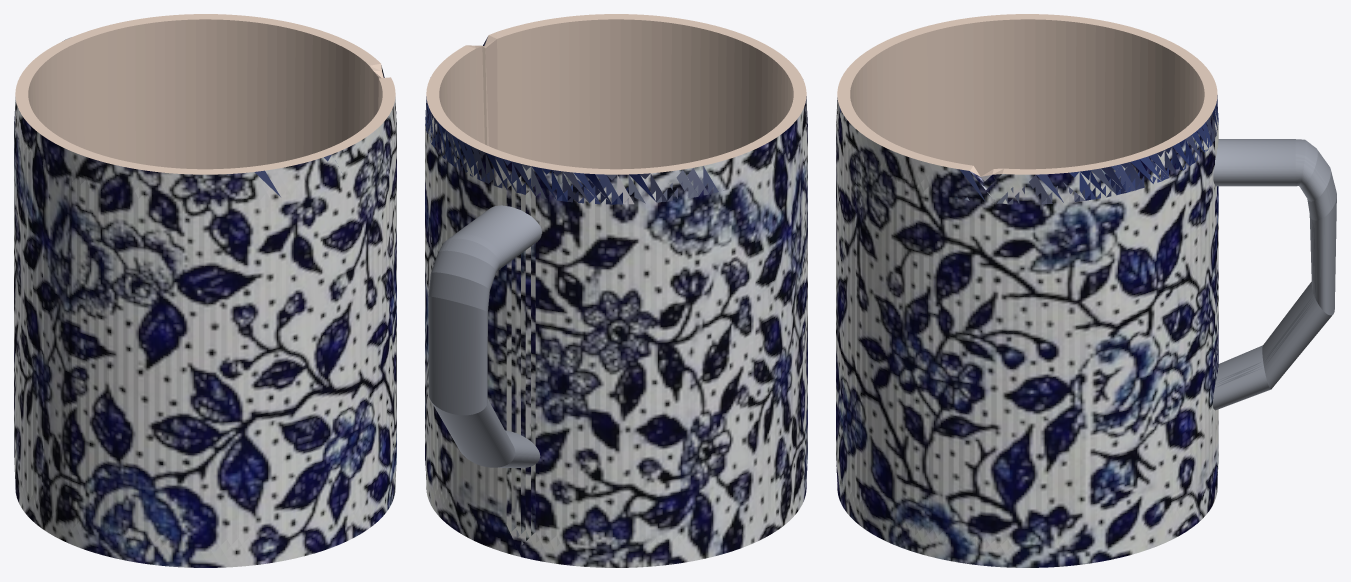
The model's file is cup.glb.
3 renders of one model, left to right at view 1: azimuth 30°, elevation 25°; view 2: azimuth 150°, elevation 25°; view 3: azimuth 270°, elevation 25°, orthographic.
Visible parts, largest first — view 1: Цилиндр, Цилиндр.001; view 2: Цилиндр, Цилиндр.001; view 3: Цилиндр, Цилиндр.001.
Boxes of the visible parts, <box> form: Цилиндр: <box>14,37,396,567</box>; Цилиндр.001: <box>15,14,395,174</box>; Цилиндр: <box>425,37,807,567</box>; Цилиндр.001: <box>426,14,806,174</box>; Цилиндр: <box>836,95,1336,567</box>; Цилиндр.001: <box>837,14,1217,176</box>.
Size of the model in its own units: 2.01 by 2.28 by 2.64.
2 materials, 1 textured.
